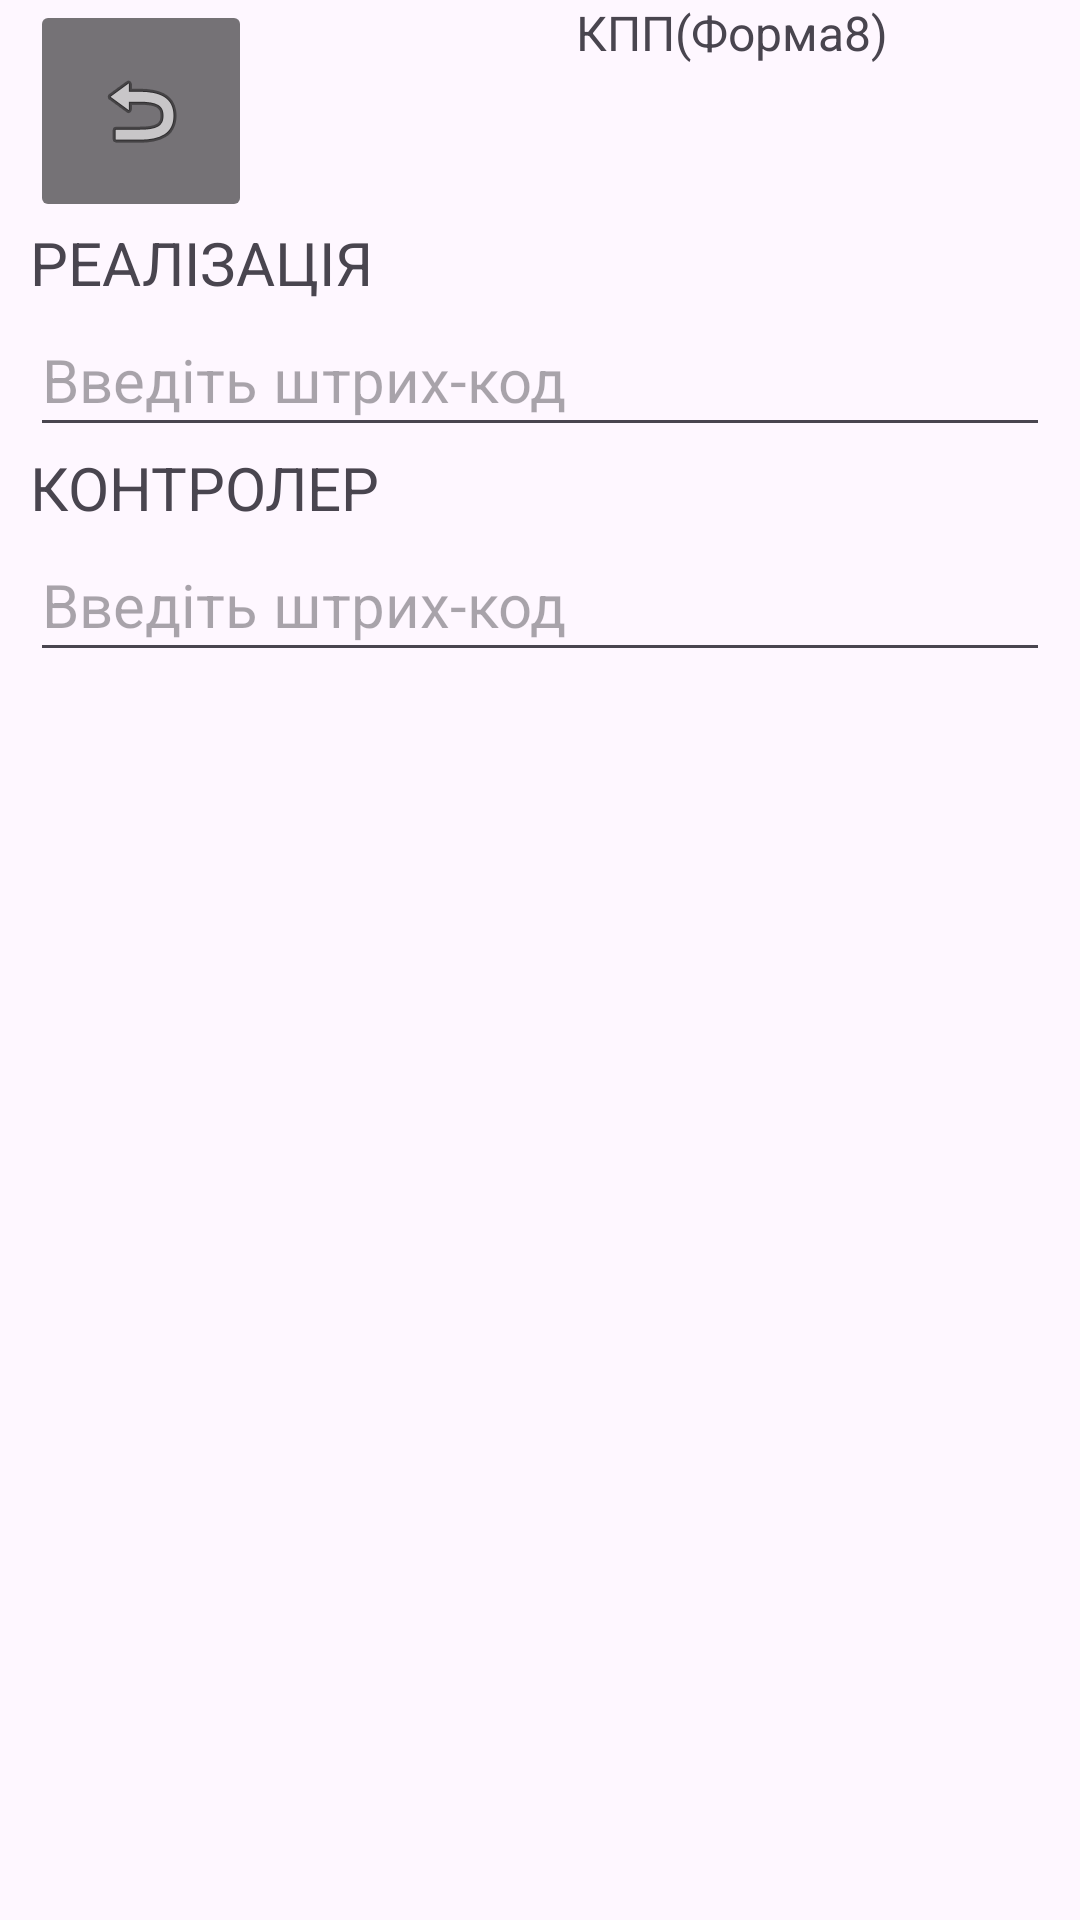

Screen size 1080 x 1920. Icon name, then its center in pixels as (x=x, y=y):
На головну: (x=141, y=111)
